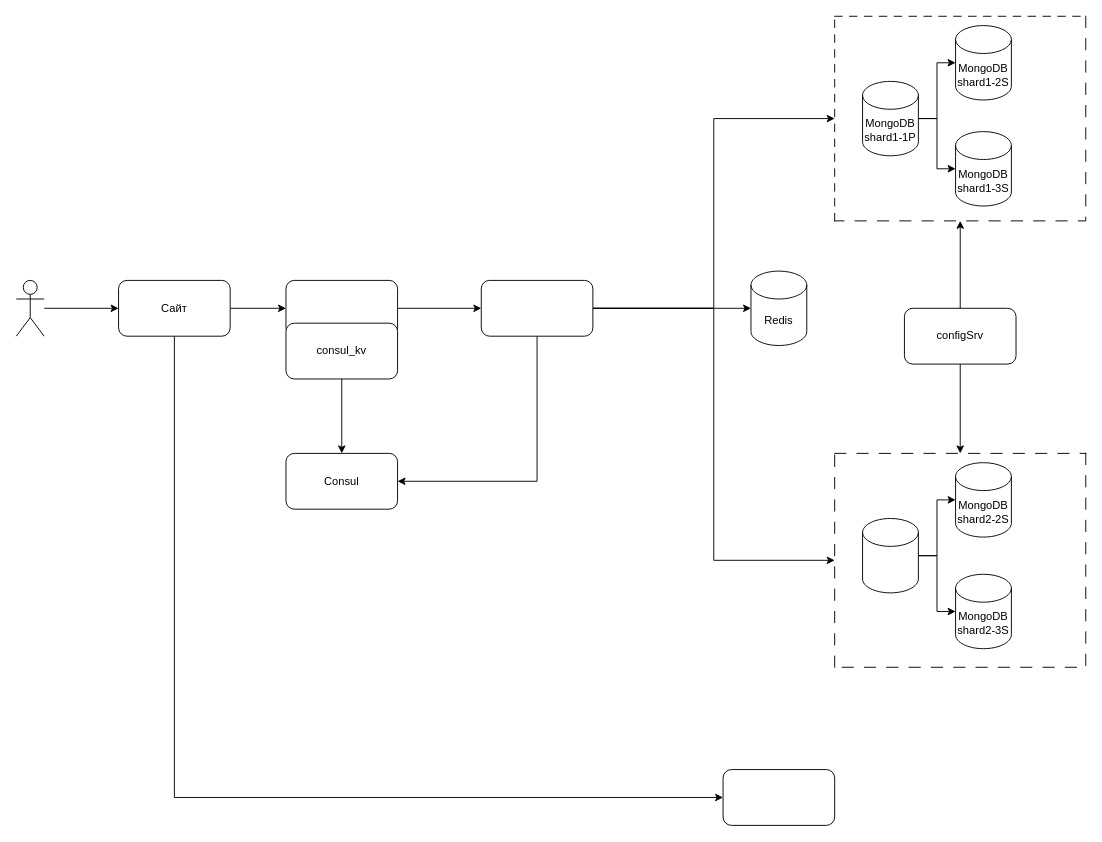
Image size: 1102x842. Some labels were removed from this diagram. Here are the shapes that lost their labels. From the top down, the box of each, then its label:
(15, 279, 44, 336): User
(285, 279, 398, 336): APISIX Gateway
(480, 279, 593, 336): pymongo-api
(862, 518, 918, 593): MongoDB shard2-1P
(722, 769, 835, 825): CDN
